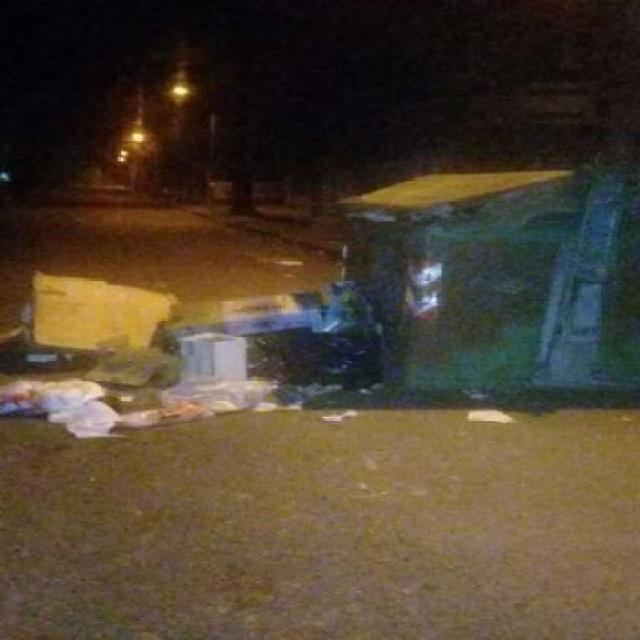garbage: (0, 269, 380, 426), (331, 165, 617, 258)
